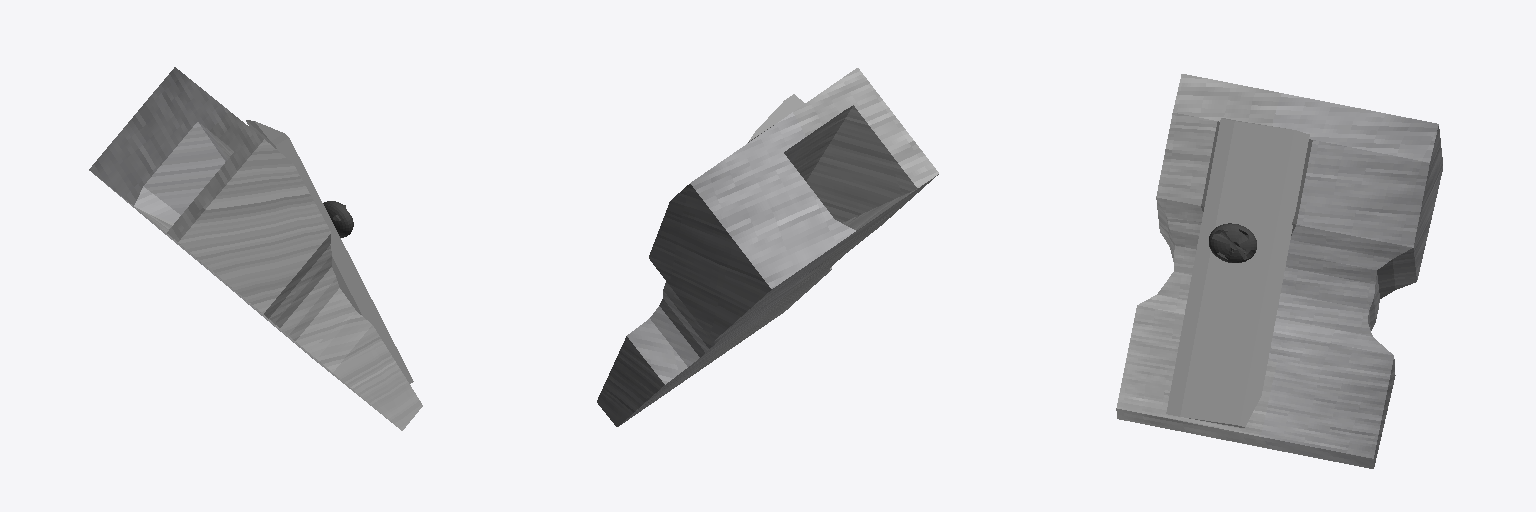
The picture shows the model from 3 angles: view 1: azimuth 30°, elevation 25°; view 2: azimuth 150°, elevation 25°; view 3: azimuth 270°, elevation 25°; orthographic projection.
Parts seen in each view (by area): view 1: Cubo_Cubo.003, Cubo.001_Cubo, Esfera_Esfera.007; view 2: Cubo_Cubo.003, Cubo.001_Cubo; view 3: Cubo_Cubo.003, Cubo.001_Cubo, Esfera_Esfera.007.
Boxes of the visible parts, x1,y1,x2,y2 form: Cubo_Cubo.003: [89, 67, 422, 430]; Cubo.001_Cubo: [246, 120, 413, 383]; Esfera_Esfera.007: [323, 201, 353, 237]; Cubo_Cubo.003: [597, 68, 938, 426]; Cubo.001_Cubo: [748, 94, 804, 142]; Cubo_Cubo.003: [1116, 74, 1442, 468]; Cubo.001_Cubo: [1166, 118, 1309, 427]; Esfera_Esfera.007: [1209, 223, 1256, 262].
Bounding box in the file's own units: 2.19 × 2.73 × 2.48.
Materials: 4 (1 with a texture image).